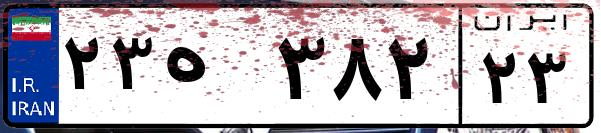2: (385, 28, 445, 110), (57, 26, 110, 100), (475, 38, 525, 113)
3: (270, 28, 330, 110), (525, 38, 570, 115), (110, 28, 158, 98)
8: (330, 28, 385, 110)
ه: (158, 20, 270, 120)
